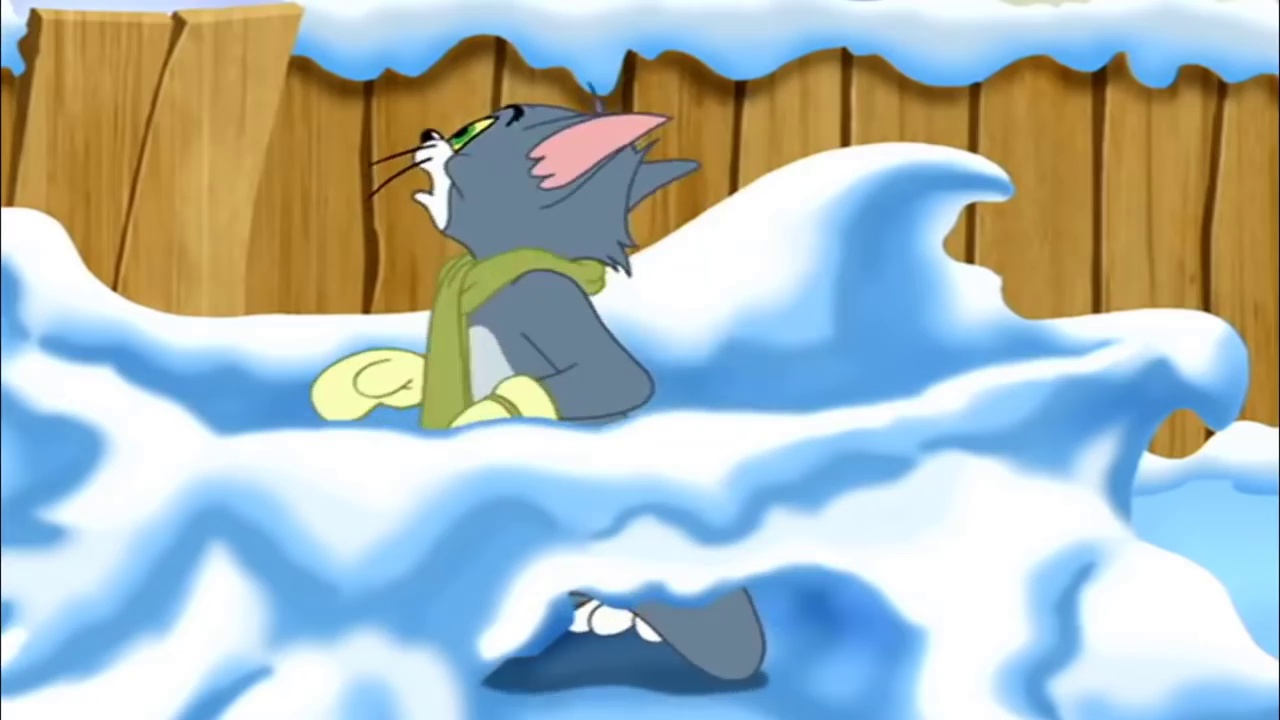face: (410, 108, 536, 234)
